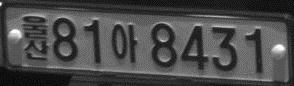1: (82, 19, 108, 64), (243, 28, 269, 72)
3: (211, 26, 237, 71)
4: (181, 24, 209, 71)
8: (52, 16, 78, 61), (151, 23, 177, 67)
아: (111, 23, 137, 62)
울산_V: (21, 14, 49, 60)
